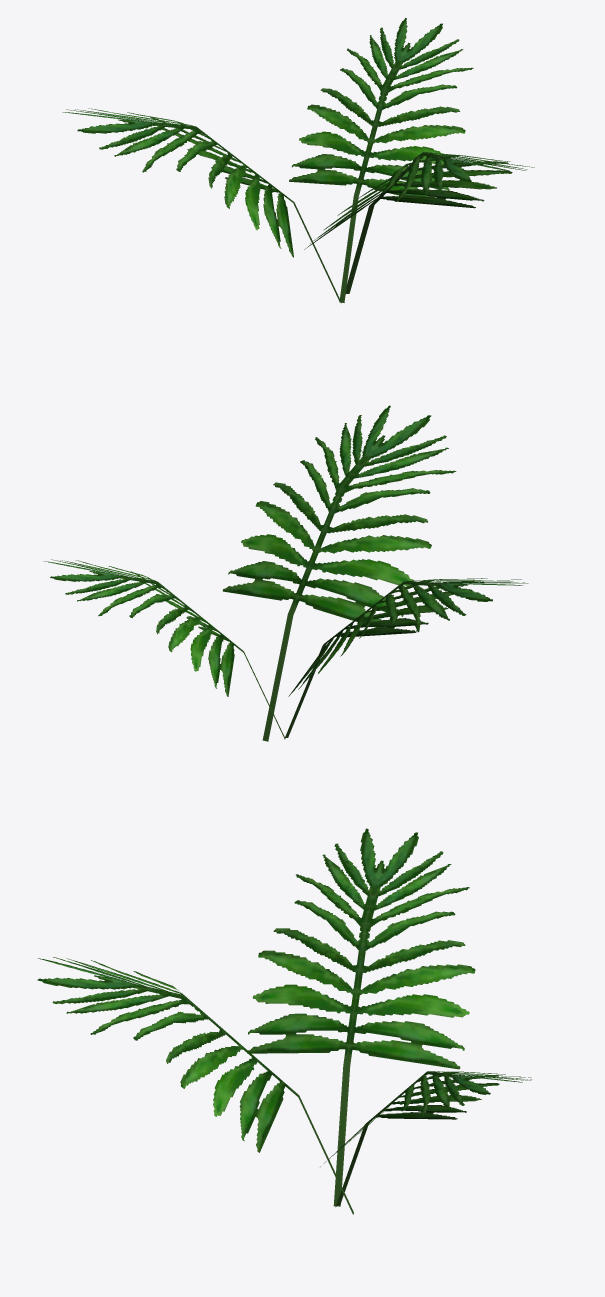
Rendered from INST_EKH_FERNB_PLANT.fbx.
3 renders of one model, top to bottom at view 1: azimuth 30°, elevation 25°; view 2: azimuth 150°, elevation 25°; view 3: azimuth 270°, elevation 25°, orthographic. The views are drawn at different scales.
Parts seen in each view (by area): view 1: INST_EKH_FERNB_PLANT; view 2: INST_EKH_FERNB_PLANT; view 3: INST_EKH_FERNB_PLANT.
Part boxes in pixels (left/top/right/bottom): INST_EKH_FERNB_PLANT: left=62, top=18, right=534, bottom=303; INST_EKH_FERNB_PLANT: left=43, top=405, right=528, bottom=741; INST_EKH_FERNB_PLANT: left=37, top=828, right=531, bottom=1214.
Bounding box in the file's own units: 6458 × 3057 × 5898.
Materials: 1 (1 with a texture image).
